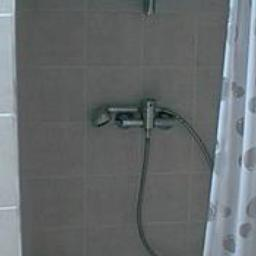Ducha: (25, 0, 256, 256)
